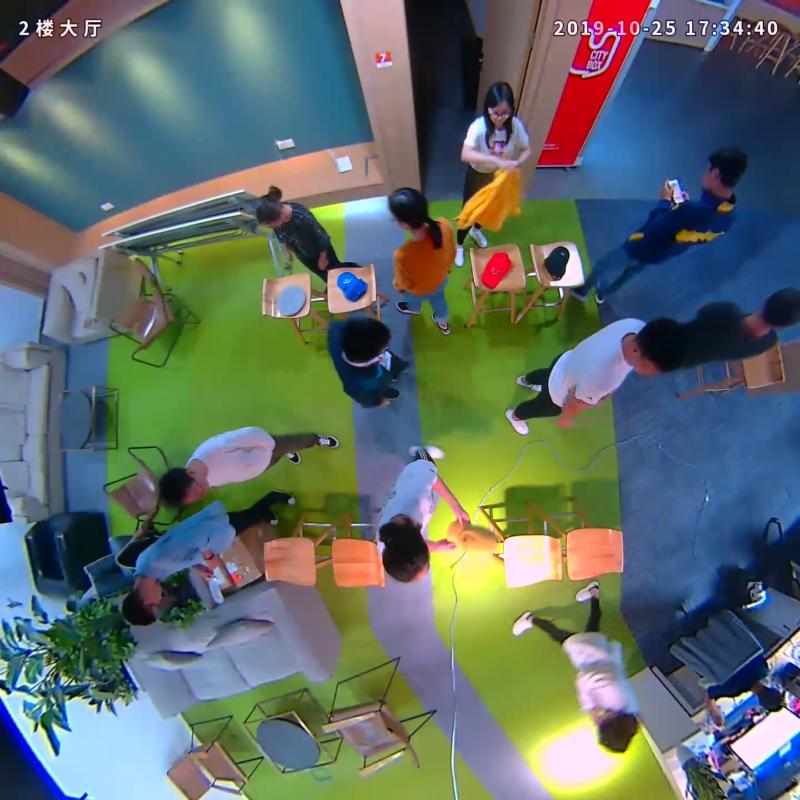head: (620, 316, 686, 384), (379, 519, 439, 588), (693, 144, 752, 199), (335, 313, 393, 367), (153, 464, 211, 511), (381, 184, 434, 234), (117, 577, 165, 630), (753, 282, 800, 336), (477, 80, 520, 128), (248, 184, 290, 231)
